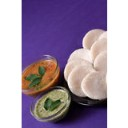idly: (64, 59, 95, 97), (81, 70, 107, 99), (83, 28, 108, 50)
